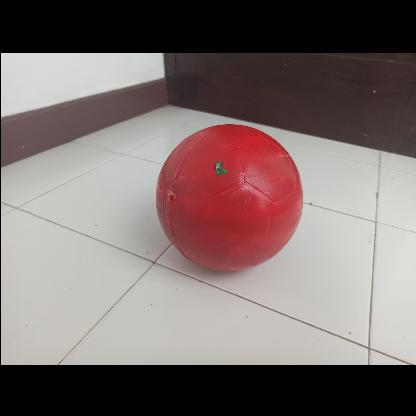red_ball: (157, 124, 304, 270)
